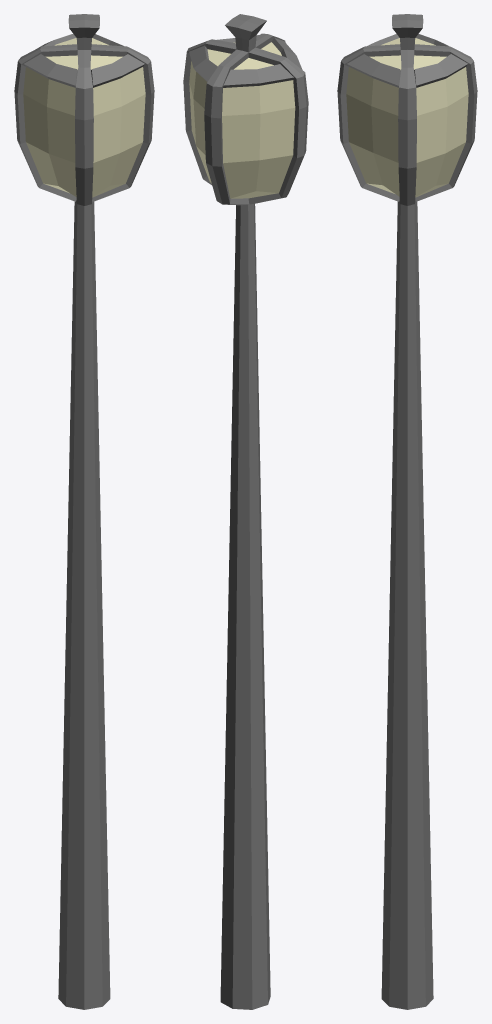
File: lampione.fbx
3 views of the same model, side by side, from view 1: azimuth 90°, elevation 25°; view 2: azimuth 150°, elevation 25°; view 3: azimuth 270°, elevation 25° (orthographic).
Parts seen in each view (by area): view 1: Cube.001; view 2: Cube.001; view 3: Cube.001.
Boxes of the visible parts, x1,y1,x2,y2 form: Cube.001: (14,14,154,1009); Cube.001: (183,14,308,1009); Cube.001: (337,14,477,1009).
Size of the model in its own units: 47.63 by 367 by 47.63.
